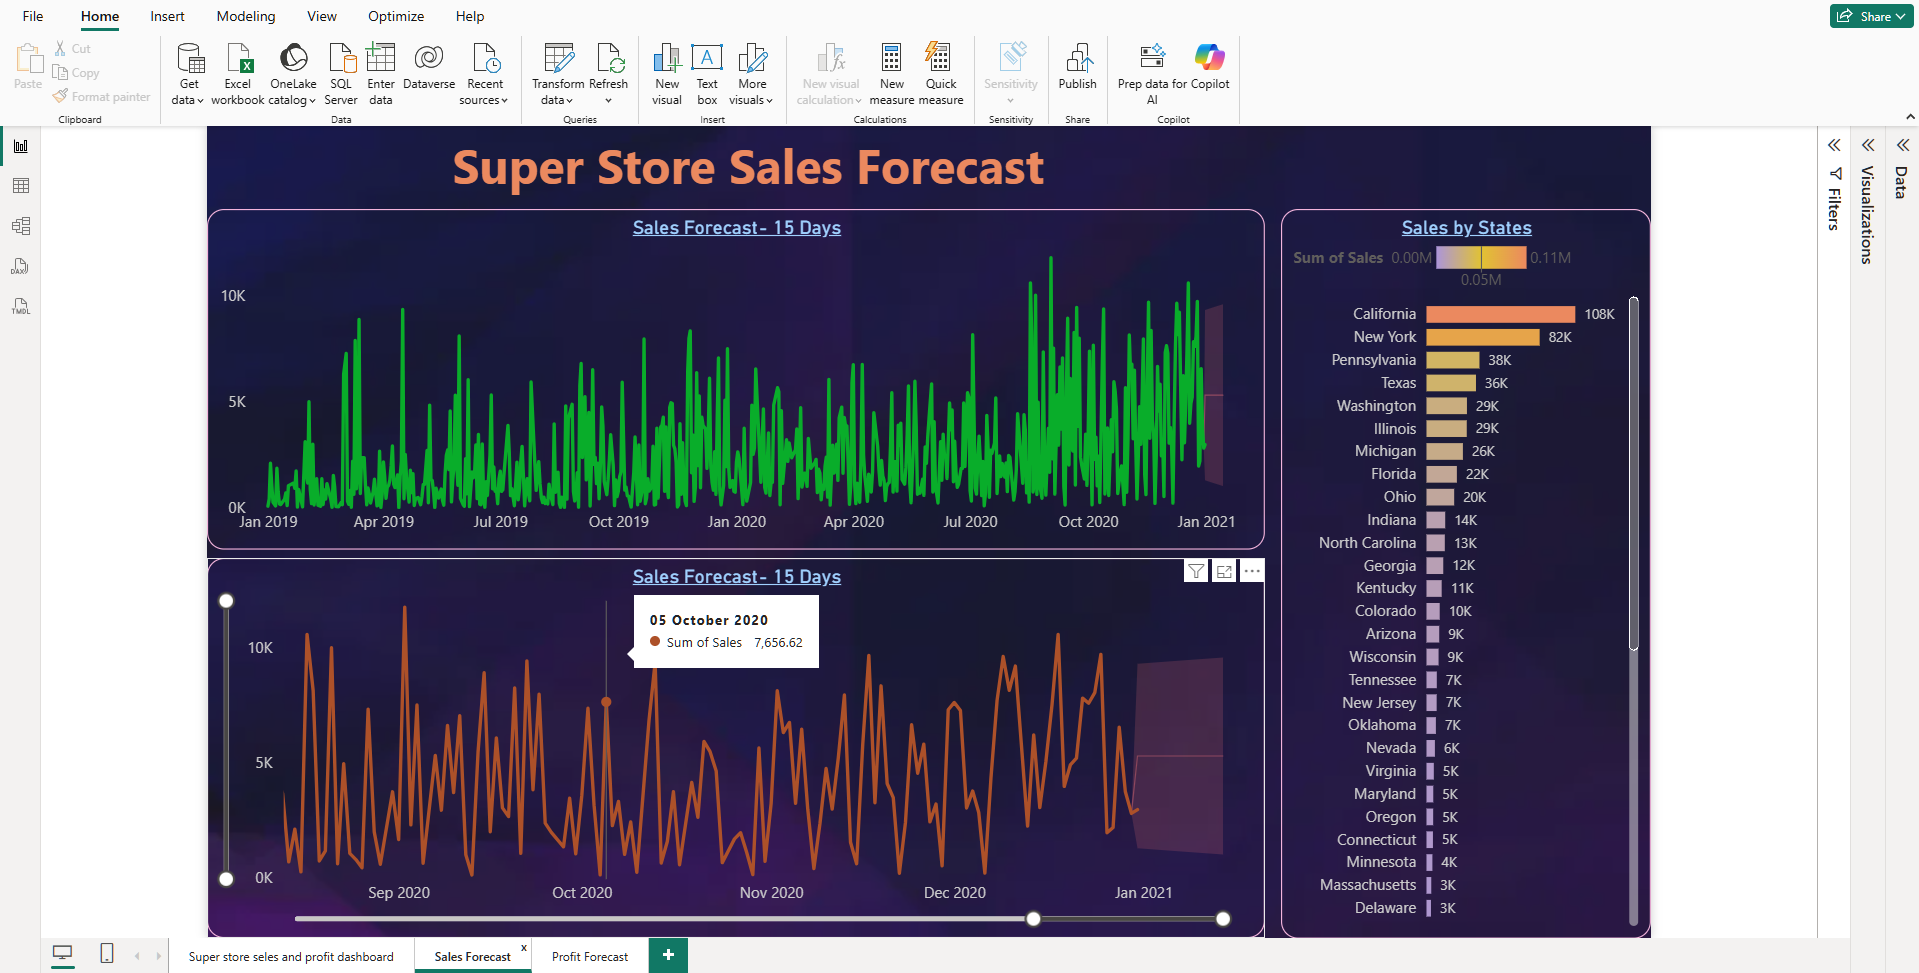

What the dashboard file says about the page in this screenshot:
{"tool":"powerbi","page":{"name":"Sales Forecast","canvas":[1280,720],"ordinal":1},"visuals":[{"type":"lineChart","title":"Sales Forecast- 15 Days","fields":{"Y":["Sum(SuperStore_Sales_Dataset.Sales)"],"Category":["SuperStore_Sales_Dataset.Order Date Hierarchy.Order Date"]},"box":[0,73.2,937.9,301.9],"z":0},{"type":"lineChart","title":"Sales Forecast- 15 Days","fields":{"Y":["Sum(SuperStore_Sales_Dataset.Sales)"],"Category":["SuperStore_Sales_Dataset.Order Date Hierarchy.Order Date"]},"box":[0,383.2,937.9,336.7],"z":1000},{"type":"clusteredBarChart","title":"Sales by States","fields":{"Category":["SuperStore_Sales_Dataset.State"],"Y":["Sum(SuperStore_Sales_Dataset.Sales)"]},"box":[952.2,73.2,327.8,646.7],"z":2000},{"type":"textbox","box":[0,0,971.8,73.2],"z":3000}]}

Visuals, with their boxes on the page's 1280x720 design canvas (x1, y1, x2, y2). These are canvas units, not pixel positions in the 1919x973 screenshot, which may show the page scaled, cropped or inside an application window:
"Sales Forecast- 15 Days" lineChart: detection(0, 73, 938, 375)
"Sales Forecast- 15 Days" lineChart: detection(0, 383, 938, 720)
"Sales by States" clusteredBarChart: detection(952, 73, 1280, 720)
textbox: detection(0, 0, 972, 73)
